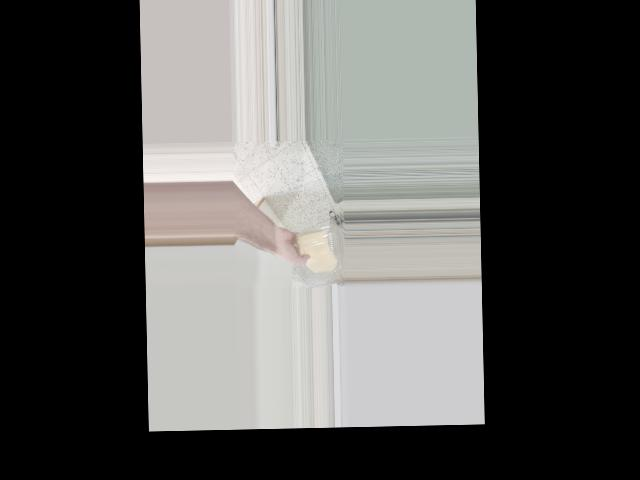cheese: (295, 225, 341, 275)
